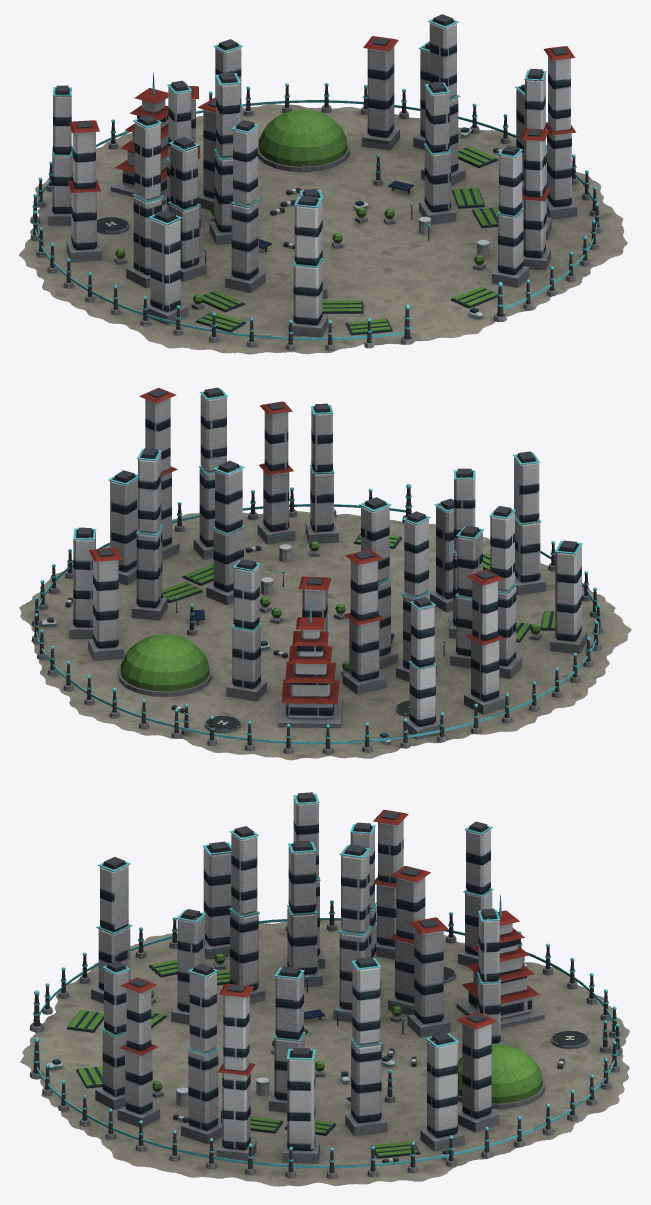
File: future-town-big-b-sinic.glb
The picture shows the model from 3 angles, top to bottom: view 1: azimuth 30°, elevation 25°; view 2: azimuth 150°, elevation 25°; view 3: azimuth 270°, elevation 25°; orthographic projection. The views are drawn at different scales.
Visible parts, largest first — view 1: LOD0; view 2: LOD0; view 3: LOD0.
Part boxes in pixels (box(x1,y1,x2,y2)): LOD0: box(19, 14, 627, 354); LOD0: box(19, 387, 631, 760); LOD0: box(20, 792, 629, 1186).
Size of what is drawn, in the model's own units: 7.95 by 2.3 by 7.65.
Materials: 3 (3 with a texture image).
